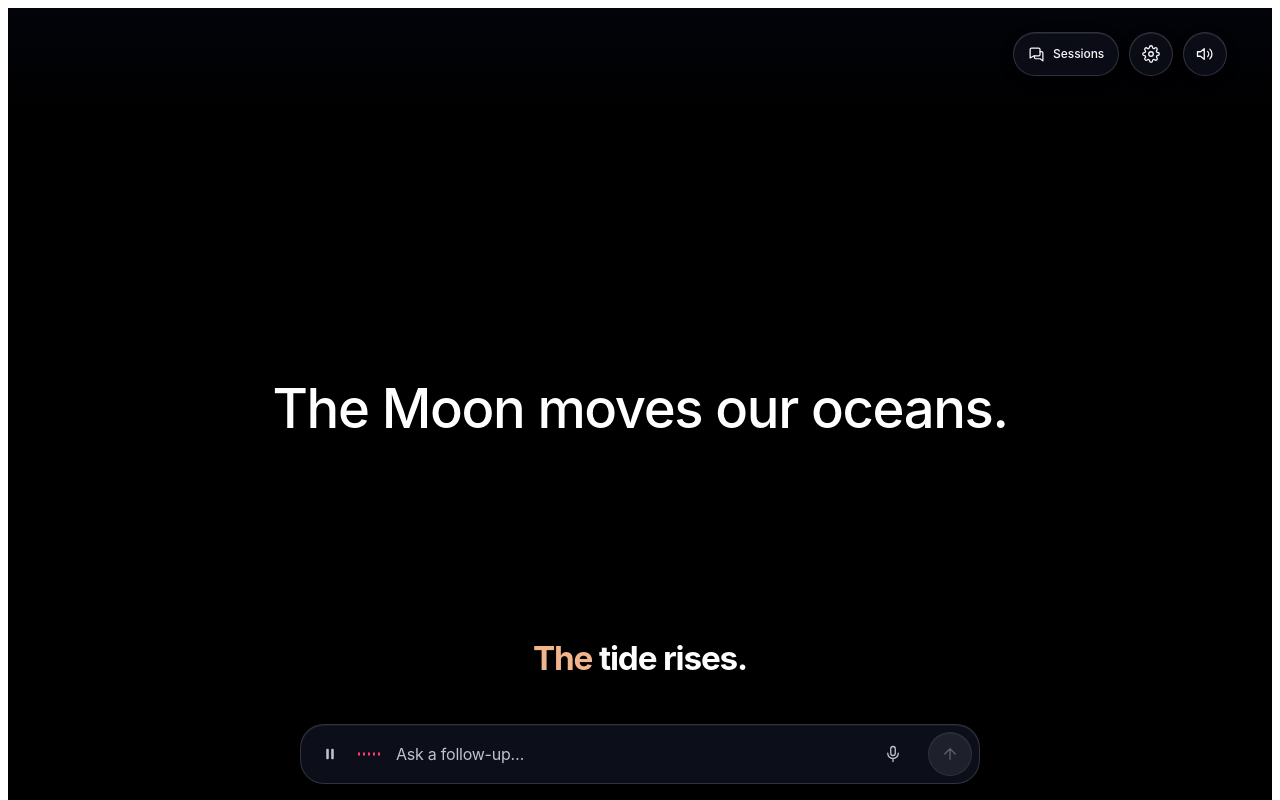
Test: replaces full-response and appearance controls with subtitle preferences
What coordinates should you click on to do the following:
click the button named "Settings"
I would click on:
 (1151, 54)
Its box is [1129,32,1173,76].
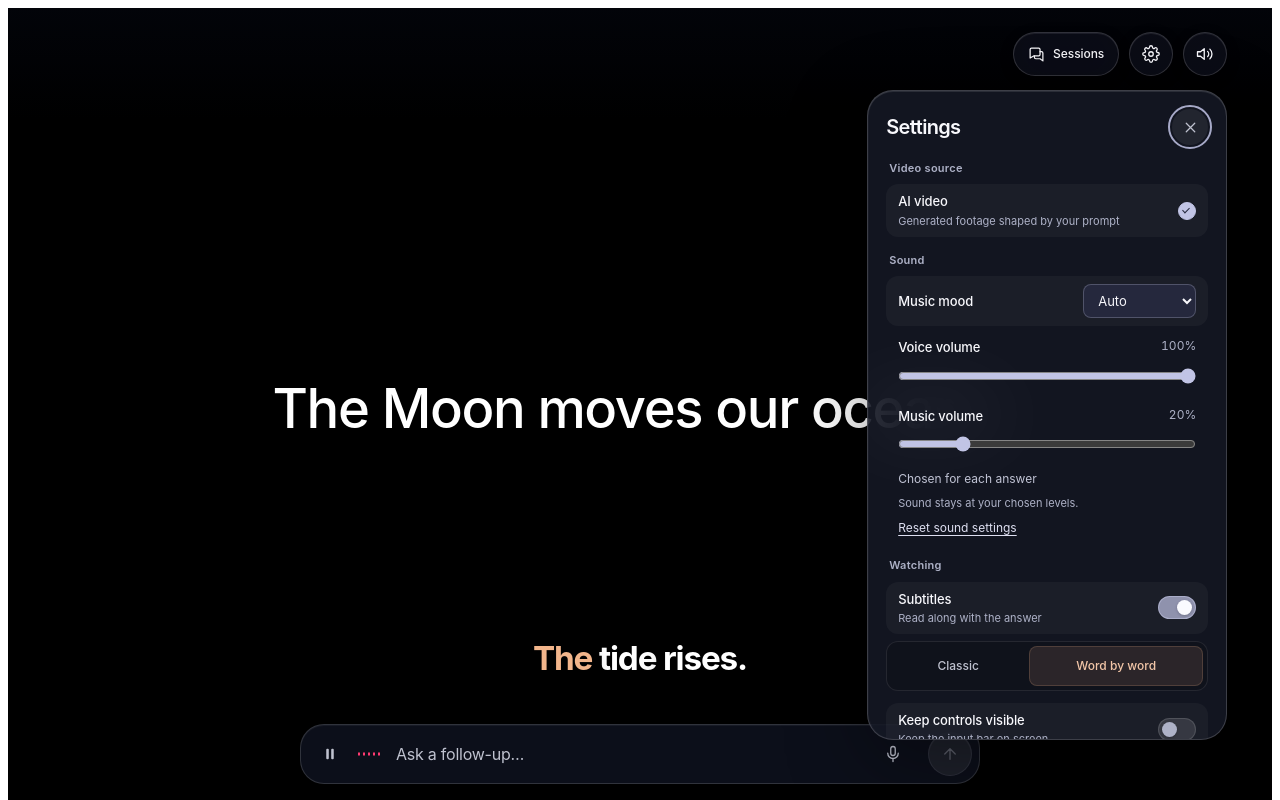
Expected: the switch labelled "Subtitles Read along with the answer" is shown, [1158,596,1196,619]
Expected: the switch labelled "Keep controls visible Keep the input bar on screen" is shown, [1158,718,1196,740]
